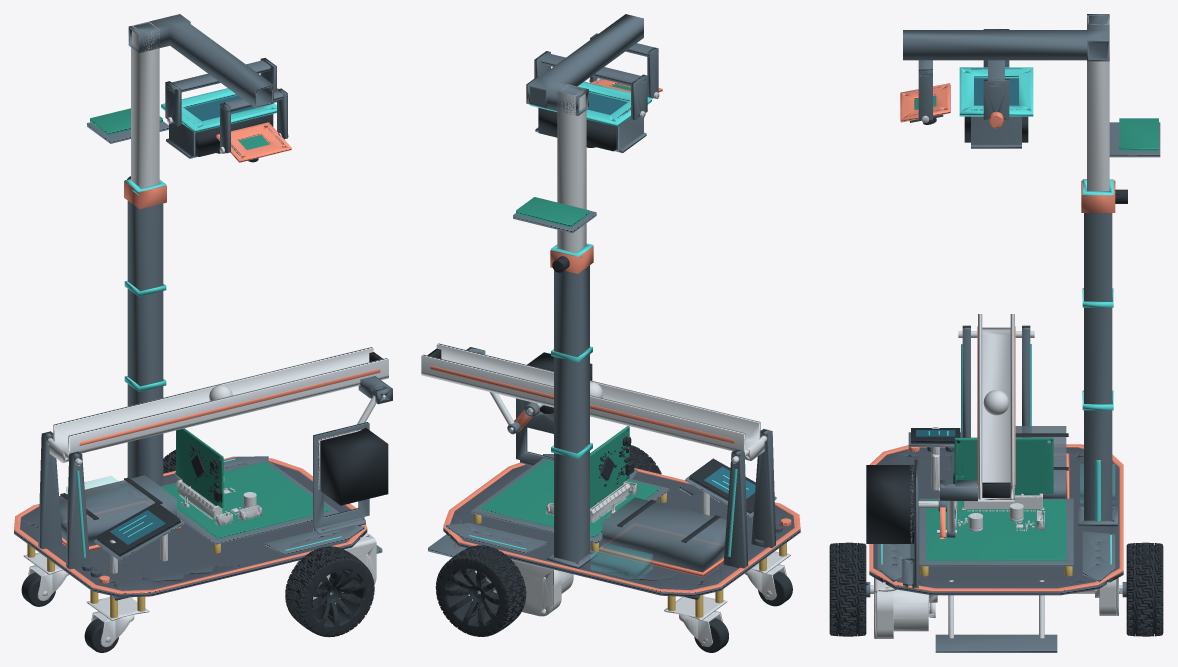
The model's file is CoralC5_Framework.glb.
3 renders of one model, left to right at view 1: azimuth 30°, elevation 25°; view 2: azimuth 150°, elevation 25°; view 3: azimuth 270°, elevation 25°, orthographic. The views are drawn at different scales.
Parts seen in each view (by area): view 1: 280mm球槽 / 端铰结构, 主底板 / 切角轮廓与斜向减重孔, 20mm方管 / 双摄升降外管, 参考轮组 R / RearLWheel, Motor99 规划包络, 双摄悬臂 / 顶部横梁, 42BYGH34-401A 参考包络 / 待实测, 16mm方管 / 升降-60至+30mm参考, 端铰支架 / 青色加劲 (×2), 电池占位 / 87×49 / 高度25待实测, 真实核心板板形, 步进L形支架 / 31mm孔距可调槽待实测 (+23 smaller); view 2: 20mm方管 / 双摄升降外管, 280mm球槽 / 端铰结构, 主底板 / 切角轮廓与斜向减重孔, 参考轮组 L / RearRWheel, 电池占位 / 87×49 / 高度25待实测, 双摄悬臂 / 顶部横梁, 端铰支架 / 青色加劲 (×2), 16mm方管 / 升降-60至+30mm参考, Motor99 规划包络, 珊瑚色周边护线 / 装饰件, 真实核心板板形, 四脚HC-08安装空间 / 40×25×12待核 (+24 smaller); view 3: 主底板 / 切角轮廓与斜向减重孔, 20mm方管 / 双摄升降外管, 双摄悬臂 / 顶部横梁, Motor99 规划包络, 280mm球槽 / 端铰结构, 42BYGH34-401A 参考包络 / 待实测, 参考轮组 L / RearRWheel, 参考轮组 R / RearLWheel, 真实核心板板形, 16mm方管 / 升降-60至+30mm参考, 侧翼护板 / 镂空通风 (×2), 参考轮组 R / MotorLPart14 (+20 smaller).
Boxes of the visible parts, bbox=[...] form: 280mm球槽 / 端铰结构: bbox=[49, 347, 388, 462]; 主底板 / 切角轮廓与斜向减重孔: bbox=[14, 462, 367, 597]; 20mm方管 / 双摄升降外管: bbox=[127, 201, 163, 486]; 参考轮组 R / RearLWheel: bbox=[285, 546, 374, 637]; Motor99 规划包络: bbox=[161, 462, 330, 538]; 双摄悬臂 / 顶部横梁: bbox=[128, 14, 273, 107]; 42BYGH34-401A 参考包络 / 待实测: bbox=[318, 428, 388, 505]; 16mm方管 / 升降-60至+30mm参考: bbox=[131, 21, 159, 188]; 端铰支架 / 青色加劲 (×2): bbox=[38, 431, 89, 569]; 电池占位 / 87×49 / 高度25待实测: bbox=[59, 475, 176, 546]; 真实核心板板形: bbox=[176, 428, 223, 507]; 步进L形支架 / 31mm孔距可调槽待实测: bbox=[313, 422, 369, 533]; 20mm方管 / 双摄升降外管: bbox=[554, 265, 589, 562]; 280mm球槽 / 端铰结构: bbox=[421, 343, 764, 460]; 主底板 / 切角轮廓与斜向减重孔: bbox=[443, 465, 800, 596]; 参考轮组 L / RearRWheel: bbox=[435, 545, 526, 636]; 电池占位 / 87×49 / 高度25待实测: bbox=[602, 497, 726, 572]; 双摄悬臂 / 顶部横梁: bbox=[526, 14, 643, 115]; 端铰支架 / 青色加劲 (×2): bbox=[723, 429, 775, 568]; 16mm方管 / 升降-60至+30mm参考: bbox=[557, 84, 586, 252]; Motor99 规划包络: bbox=[480, 460, 660, 537]; 珊瑚色周边护线 / 装饰件: bbox=[443, 462, 800, 593]; 真实核心板板形: bbox=[590, 426, 629, 508]; 四脚HC-08安装空间 / 40×25×12待核: bbox=[591, 543, 652, 580]; 主底板 / 切角轮廓与斜向减重孔: bbox=[869, 447, 1123, 595]; 20mm方管 / 双摄升降外管: bbox=[1084, 213, 1112, 520]; 双摄悬臂 / 顶部横梁: bbox=[903, 14, 1109, 61]; Motor99 规划包络: bbox=[926, 499, 1066, 560]; 280mm球槽 / 端铰结构: bbox=[978, 314, 1014, 501]; 42BYGH34-401A 参考包络 / 待实测: bbox=[866, 465, 914, 543]; 参考轮组 L / RearRWheel: bbox=[1126, 542, 1163, 636]; 参考轮组 R / RearLWheel: bbox=[829, 542, 866, 636]; 真实核心板板形: bbox=[954, 437, 1053, 495]; 16mm方管 / 升降-60至+30mm参考: bbox=[1087, 15, 1109, 191]; 侧翼护板 / 镂空通风 (×2): bbox=[877, 531, 1115, 582]; 参考轮组 R / MotorLPart14: bbox=[876, 589, 934, 638].
Size of the model in its own units: 0.2875 by 0.4498 by 0.2362.
